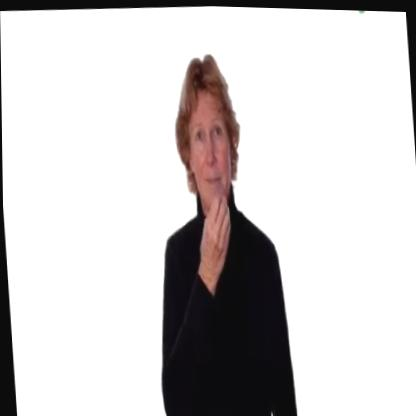Food: (164, 33, 254, 269)
